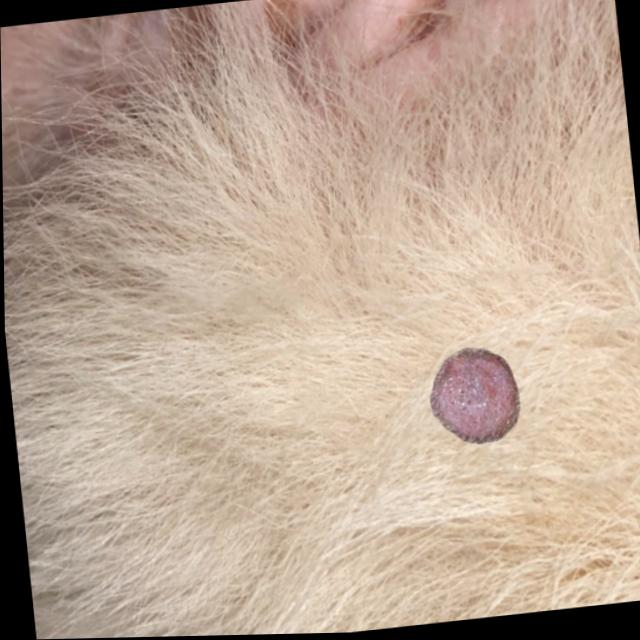ringworm: (405, 295, 559, 481)
